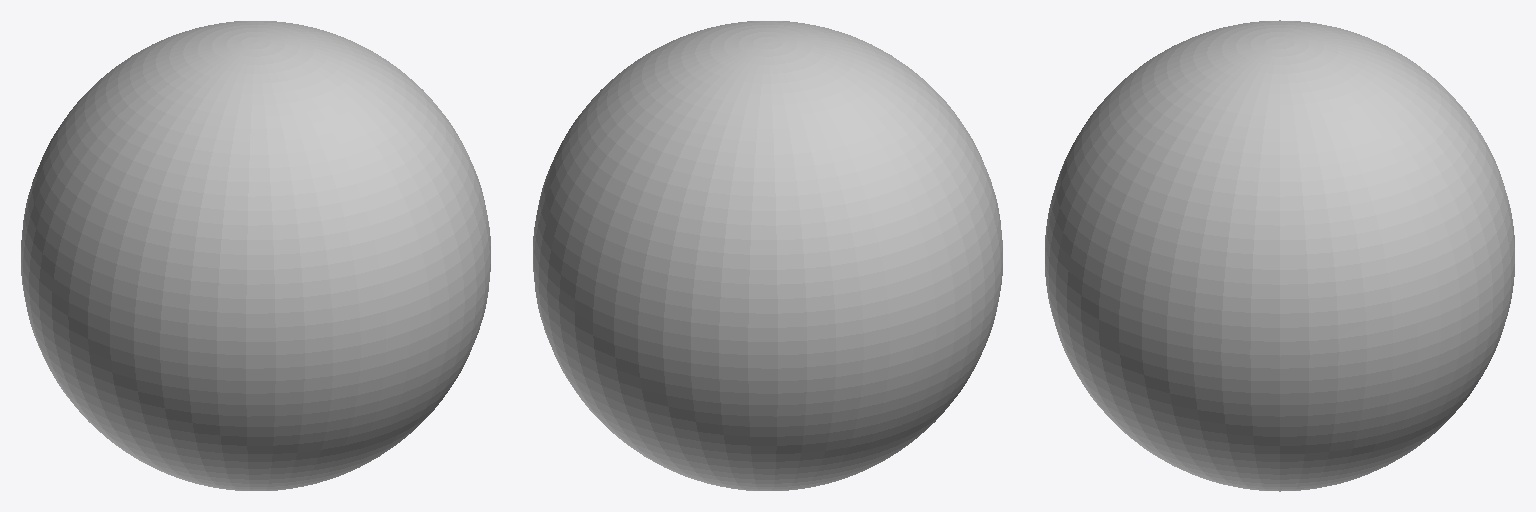
File: Moon.obj
The picture shows the model from 3 angles: view 1: azimuth 30°, elevation 25°; view 2: azimuth 150°, elevation 25°; view 3: azimuth 270°, elevation 25°; orthographic projection.
Visible parts, largest first — view 1: pSphere8; view 2: pSphere8; view 3: pSphere8.
Boxes of the visible parts, <box> form: pSphere8: <box>21,21,490,490</box>; pSphere8: <box>533,21,1002,490</box>; pSphere8: <box>1045,20,1514,491</box>.
Bounding box in the file's own units: 0.6 × 0.6 × 0.5988.